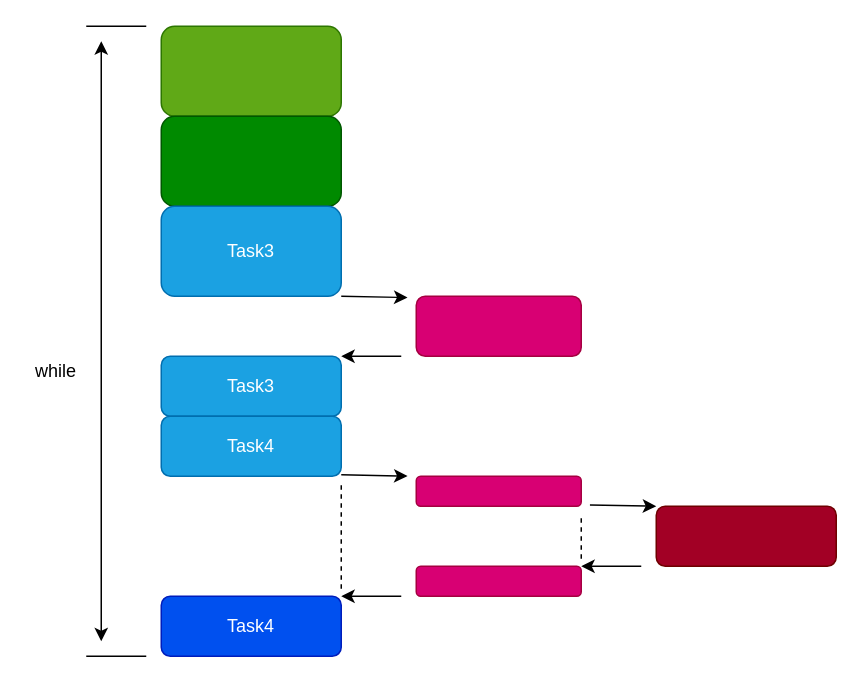
The diagram is 863 pixels wide and 684 high, and some of its shapes have lost their labels. Here are the shapes that lost their labels. From the top down, the box of each, then its label:
(160, 25, 341, 116): Task1
(160, 115, 341, 206): Task2
